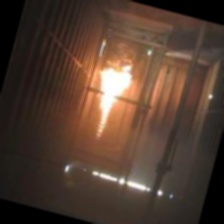fire: (78, 59, 135, 141)
